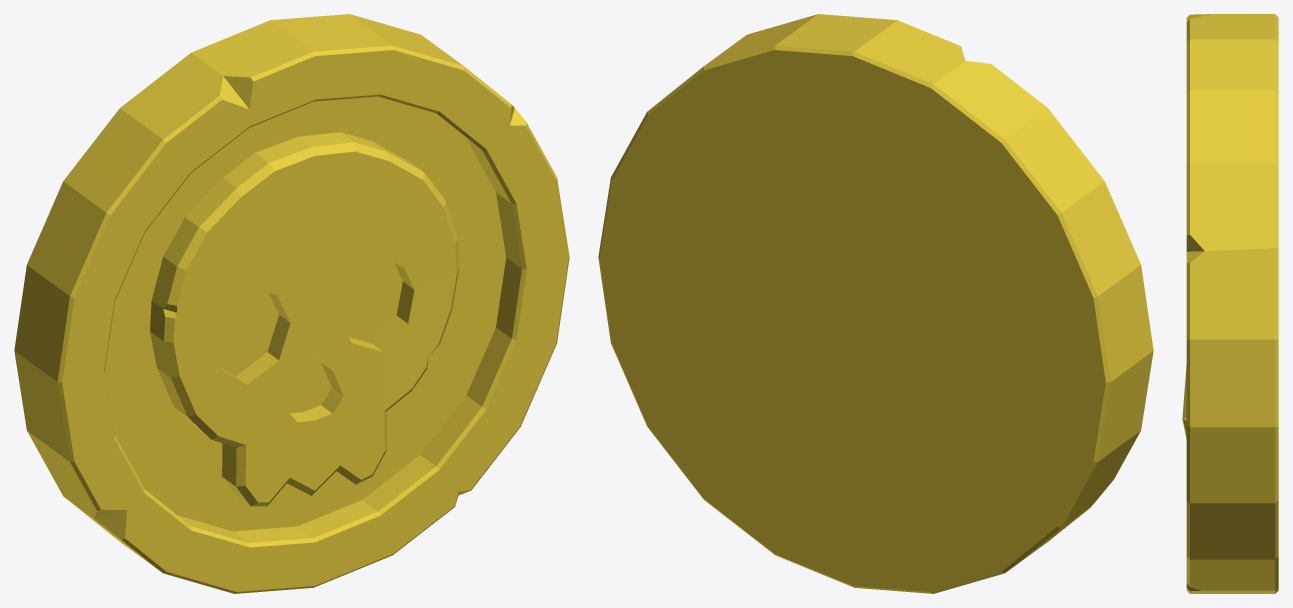
File: Gold Coin.fbx
3 renders of one model, left to right at view 1: azimuth 30°, elevation 25°; view 2: azimuth 150°, elevation 25°; view 3: azimuth 270°, elevation 25°, orthographic.
Parts seen in each view (by area): view 1: Gold Coin; view 2: Gold Coin; view 3: Gold Coin.
Boxes of the visible parts, x1,y1,x2,y2 form: Gold Coin: [14, 14, 569, 593]; Gold Coin: [598, 14, 1153, 593]; Gold Coin: [1182, 14, 1278, 593].
Size of the model in its own units: 2 by 2 by 0.3292.
